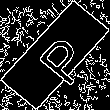P_NW: (22, 25, 88, 85)
